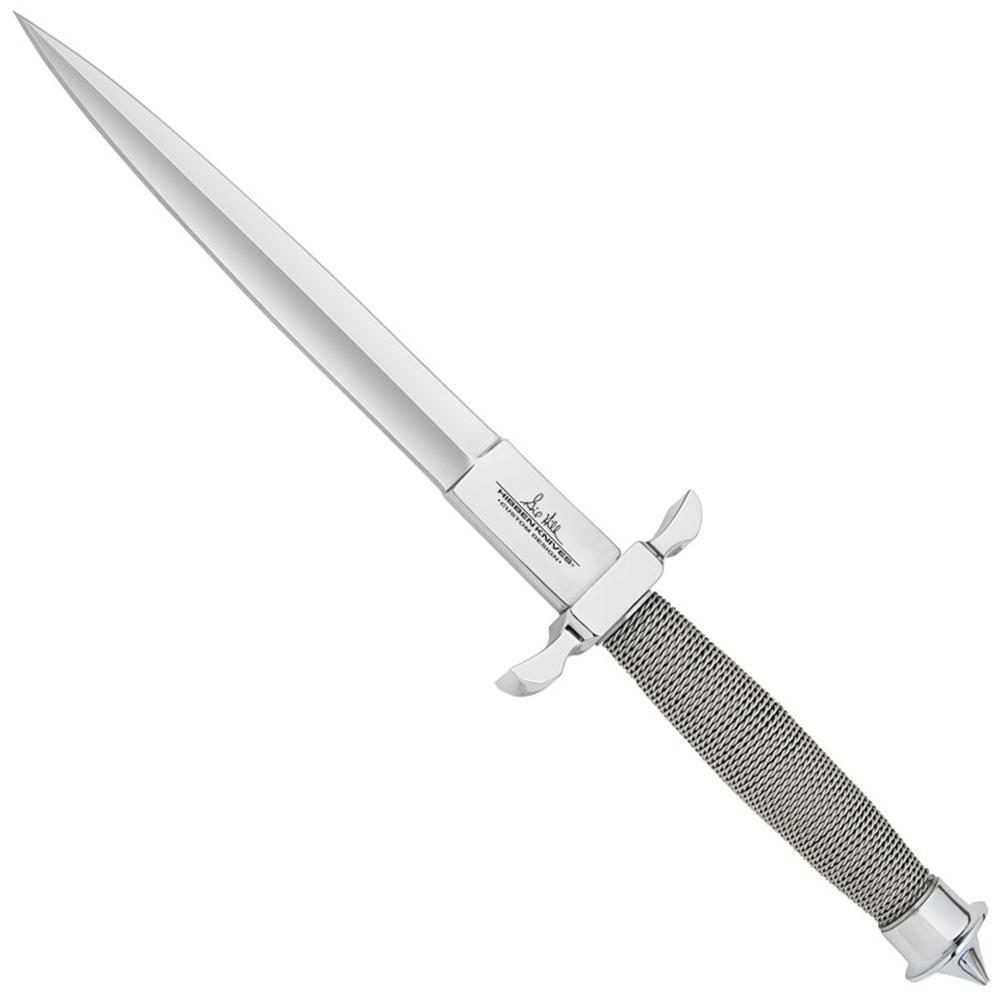espada: (18, 16, 987, 982)
